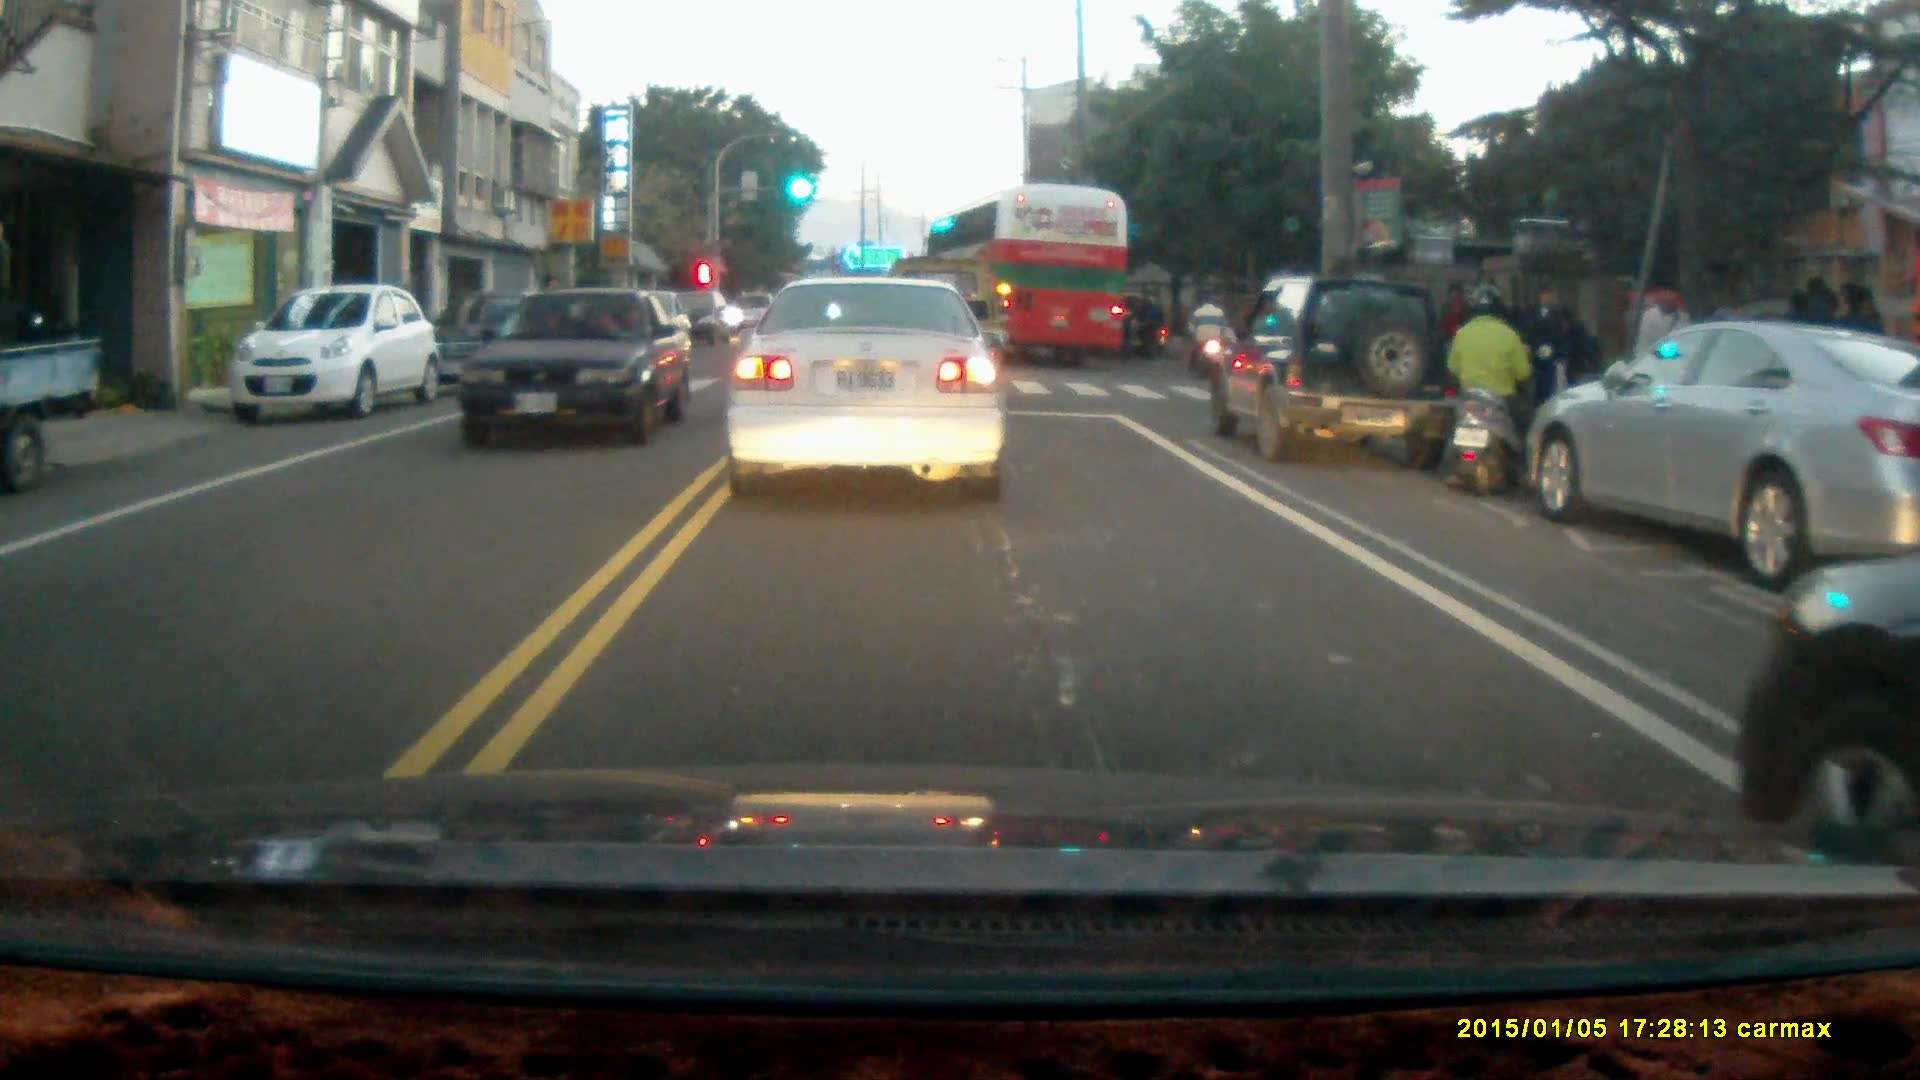pedestrian: (1625, 275, 1694, 424), (1521, 283, 1573, 429)
rider: (1442, 283, 1537, 502), (1111, 293, 1170, 363), (1184, 290, 1225, 375)
vehicle: (1532, 322, 1920, 592), (722, 270, 1011, 505), (1742, 571, 1920, 850), (1202, 275, 1462, 467), (455, 286, 695, 452), (925, 188, 1136, 376), (227, 284, 433, 420), (1, 283, 106, 490)
